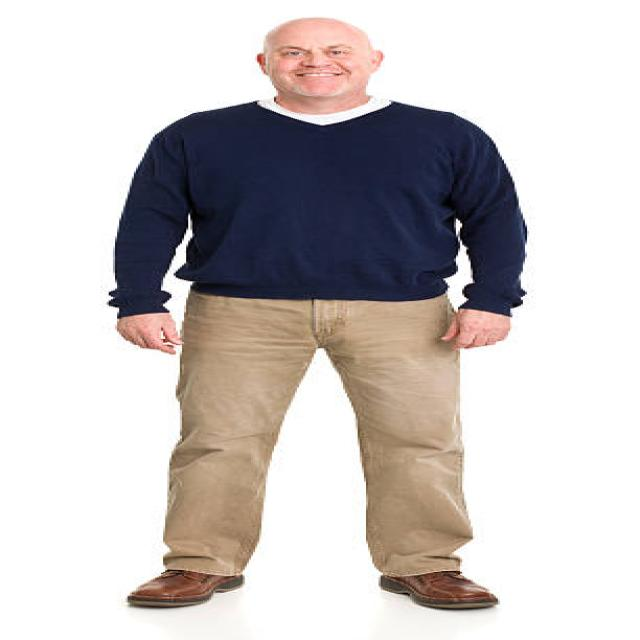Edited images: (93, 12, 563, 616)
